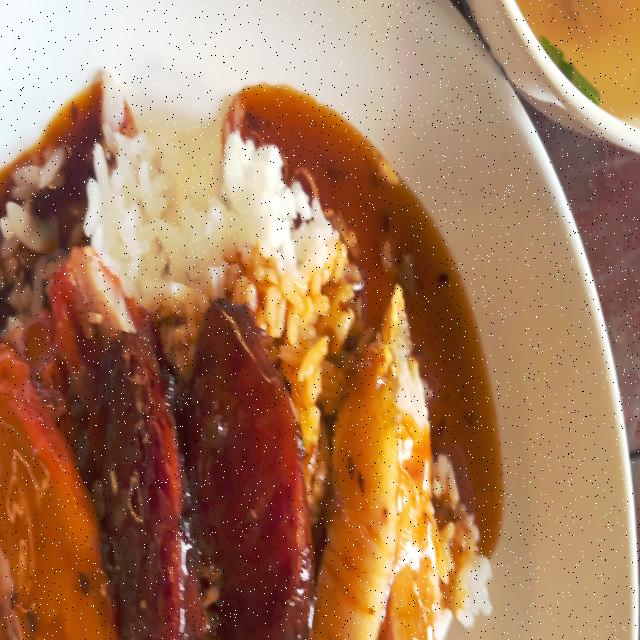chainese_sausage: (101, 327, 308, 640), (189, 289, 300, 640), (102, 334, 184, 640)
crispy_pork: (333, 288, 444, 640), (325, 324, 396, 640), (391, 292, 437, 640)
red_pork: (0, 296, 98, 640), (27, 240, 112, 413)
red_pork_and_crispy_pork: (0, 124, 478, 640)
rice: (42, 81, 385, 292)
